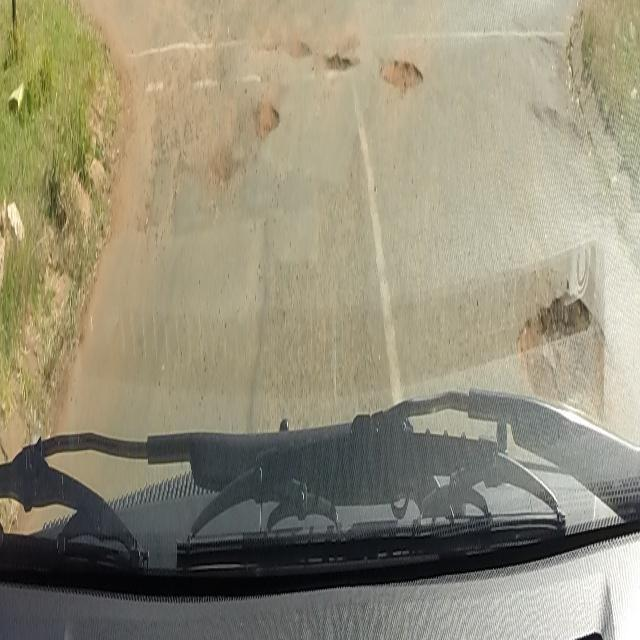pothole: (536, 268, 605, 436), (283, 37, 423, 93), (250, 96, 280, 136)
